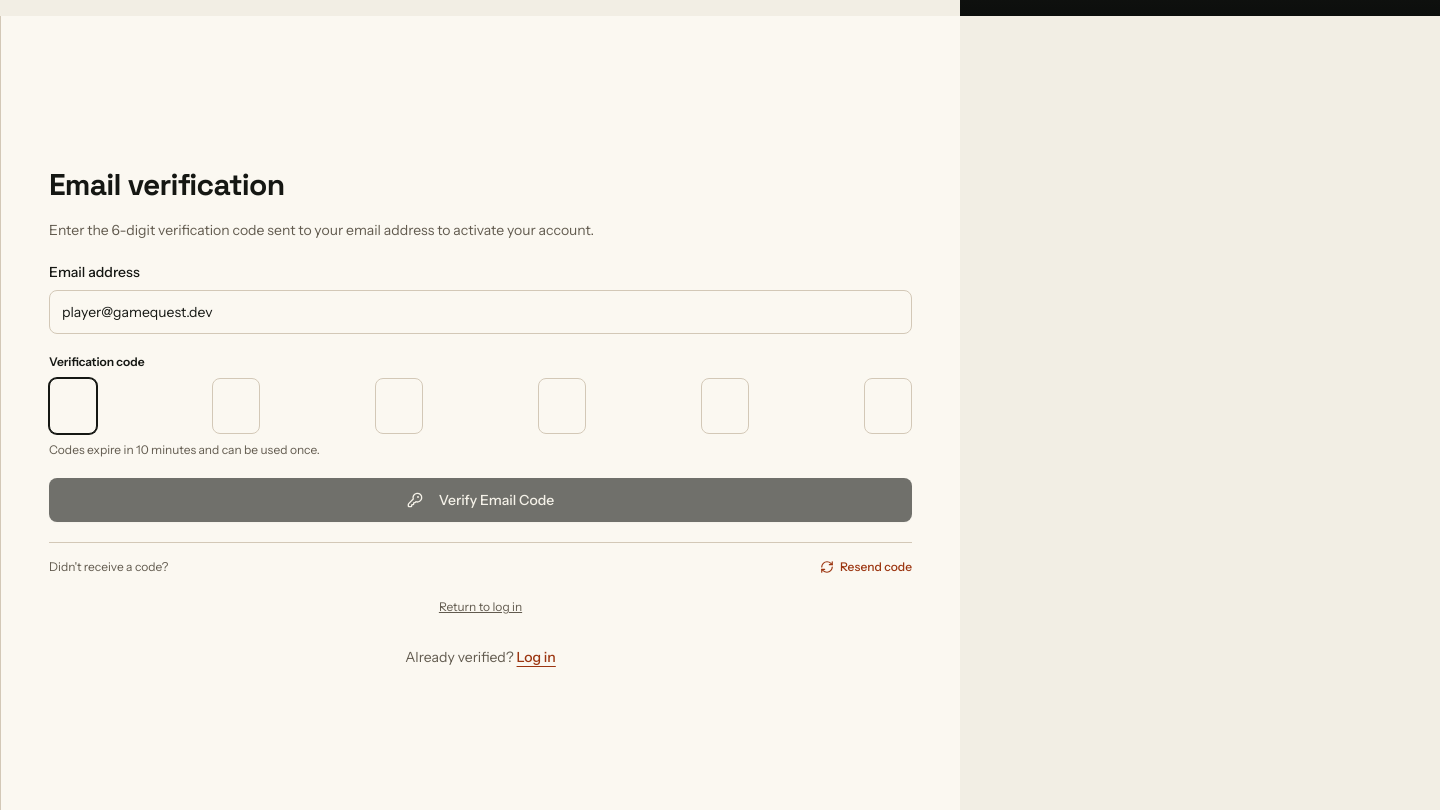
Scenario: Email Verification Client Flow › VerifyEmail Page › resends verification code and starts 60-second cooldown
The image size is (1440, 810).
(page scrolled)
What coordinates should you click on to do the following:
click the button "Resend code"
I would click on:
 (866, 567)
Its box is x1=820 y1=559 x2=912 y2=575.
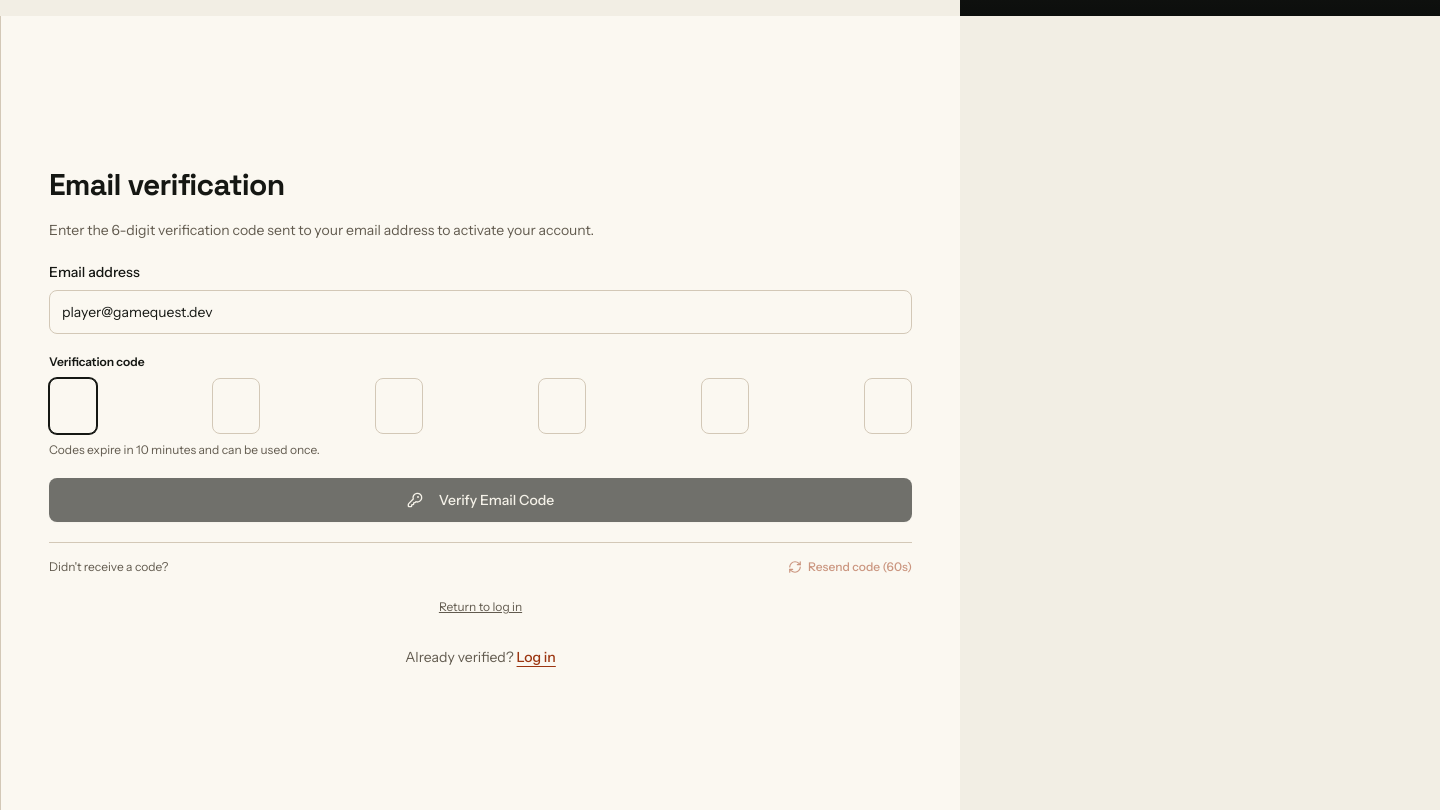
Check: the button "Resend code (60s)" is disabled, box x1=788 y1=559 x2=912 y2=575
